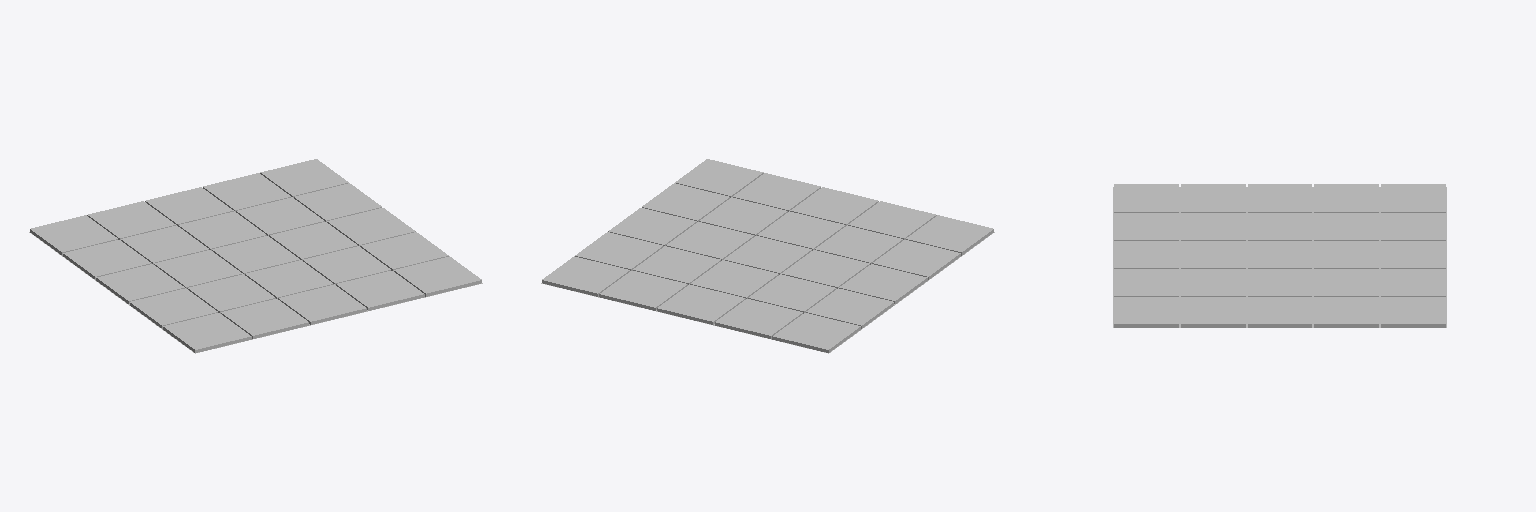
File: floor_grid.obj
The picture shows the model from 3 angles: view 1: azimuth 30°, elevation 25°; view 2: azimuth 150°, elevation 25°; view 3: azimuth 270°, elevation 25°; orthographic projection.
Visible parts, largest first — view 1: _1, default; view 2: _1, default; view 3: _1, default.
Part boxes in pixels (x1,y1,x2,y2): _1: (31,159,481,349); default: (29,173,482,353); _1: (542,159,992,349); default: (541,173,994,353); _1: (1114,184,1445,323); default: (1113,187,1446,327).
Size of the model in its own units: 10 by 0.1057 by 10.